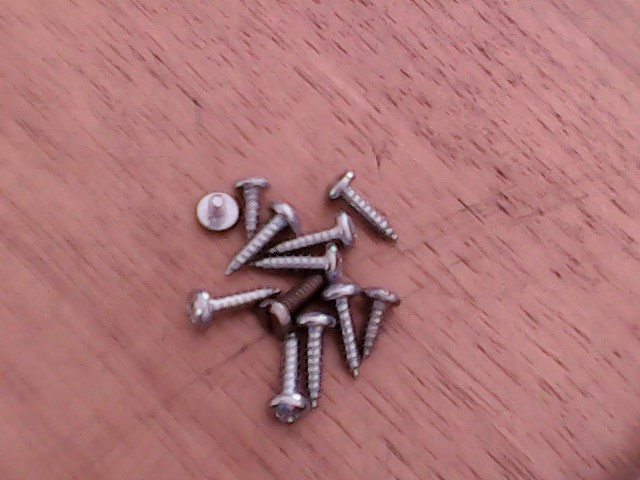Metal: (187, 167, 413, 441)
